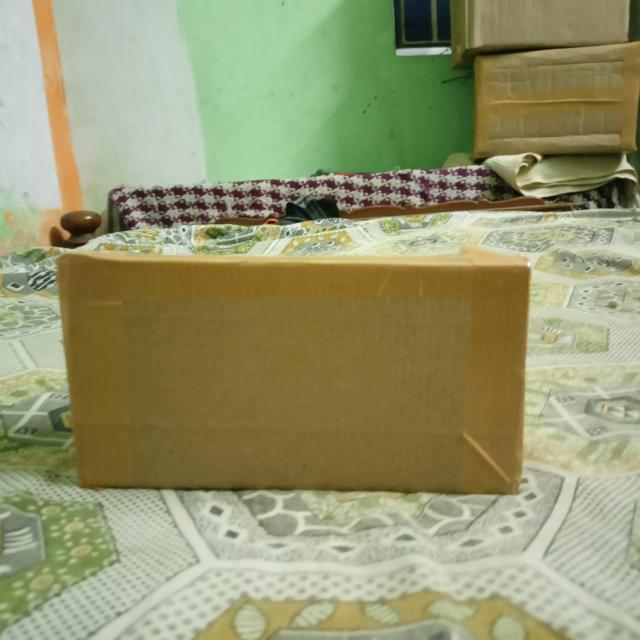box: (64, 261, 531, 494)
